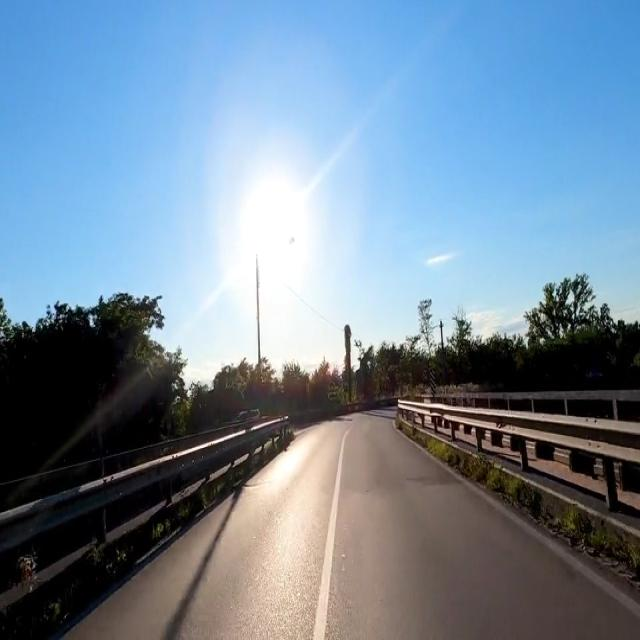lane: (313, 428, 350, 639)
road: (67, 411, 639, 638)
